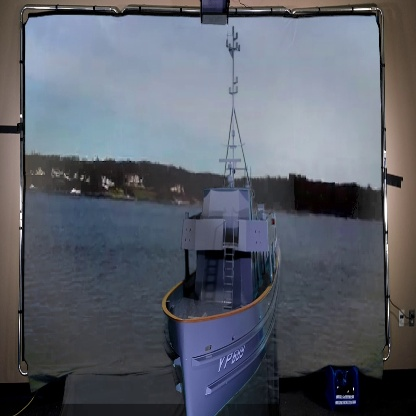YP689: (159, 24, 282, 416)
